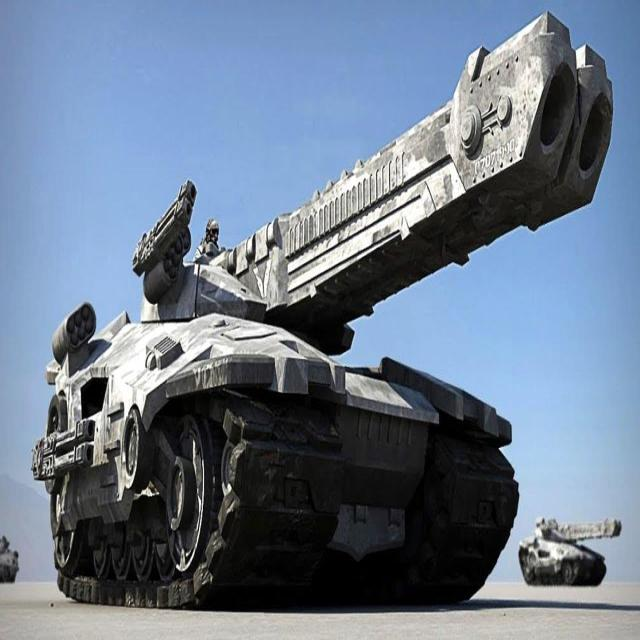Tanks: (31, 158, 521, 618)
